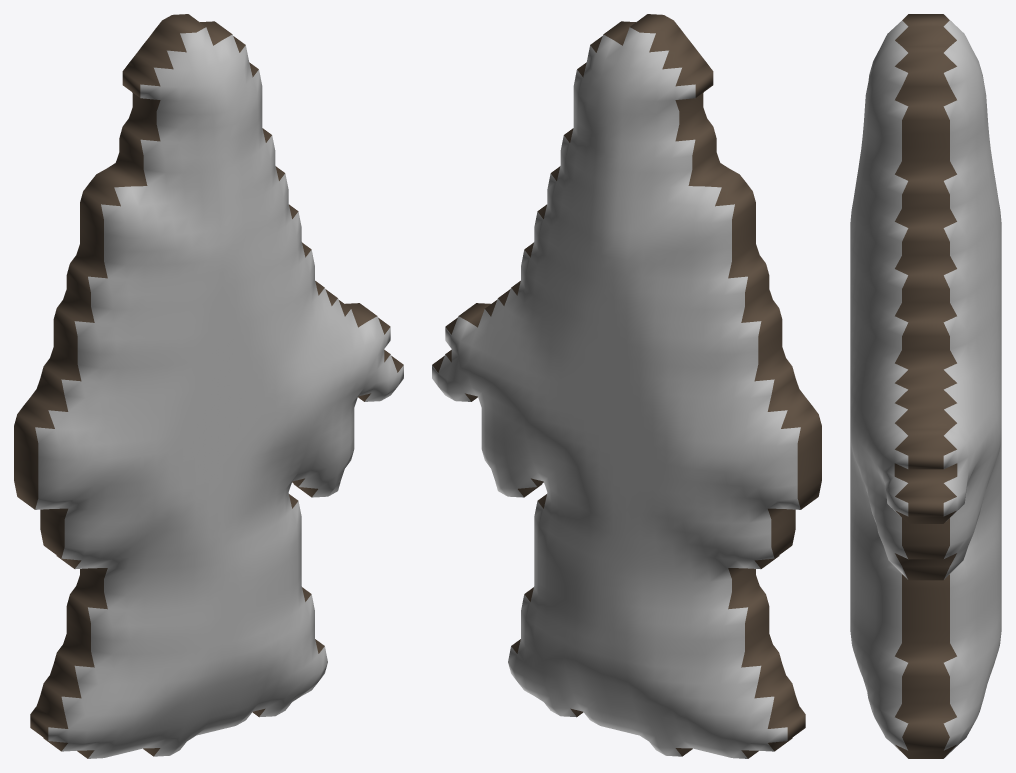
File: statue_faceless.glb
3 views of the same model, side by side, from view 1: azimuth 30°, elevation 25°; view 2: azimuth 150°, elevation 25°; view 3: azimuth 270°, elevation 25° (orthographic).
Parts seen in each view (by area): view 1: statue_faceless; view 2: statue_faceless; view 3: statue_faceless.
Part boxes in pixels (<box>): statue_faceless: <box>14,14,403,758</box>; statue_faceless: <box>432,14,821,758</box>; statue_faceless: <box>850,14,1001,758</box>.
Bounding box in the file's own units: 2.69 × 5 × 0.9698.
